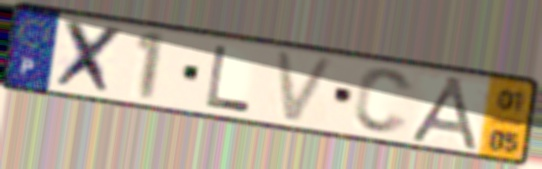1: (131, 29, 168, 104)
A: (405, 74, 485, 154)
C: (349, 65, 417, 138)
L: (202, 43, 253, 116)
V: (271, 47, 340, 126)
X: (49, 16, 127, 100)
